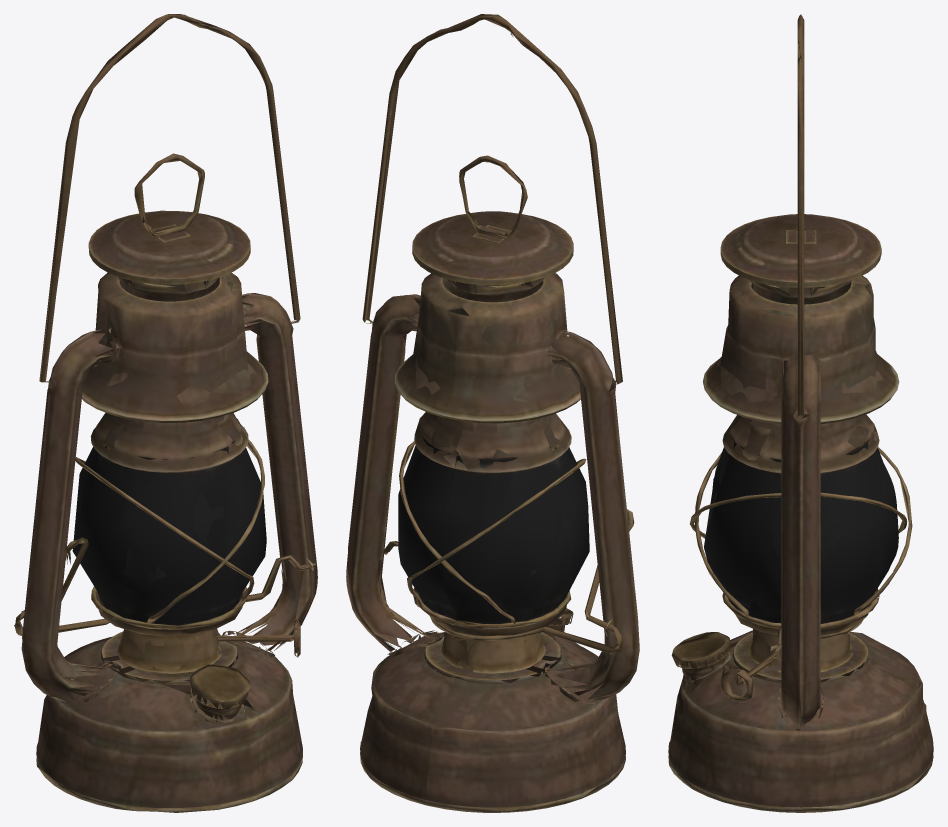
The model's file is lantern.glb.
3 views of the same model, side by side, from view 1: azimuth 30°, elevation 25°; view 2: azimuth 150°, elevation 25°; view 3: azimuth 270°, elevation 25° (orthographic).
Visible parts, largest first — view 1: Lantern_01, Lantern_01_glass; view 2: Lantern_01, Lantern_01_glass; view 3: Lantern_01, Lantern_01_glass.
Part boxes in pixels (x1=…): Lantern_01: x1=14, y1=14, x2=317, y2=812; Lantern_01_glass: x1=72, y1=418, x2=266, y2=630; Lantern_01: x1=346, y1=14, x2=639, y2=812; Lantern_01_glass: x1=398, y1=419, x2=589, y2=623; Lantern_01: x1=668, y1=14, x2=933, y2=812; Lantern_01_glass: x1=704, y1=424, x2=898, y2=623.
Size of the model in its own units: 0.1221 by 0.294 by 0.0956.
Materials: 2 (2 with a texture image).
